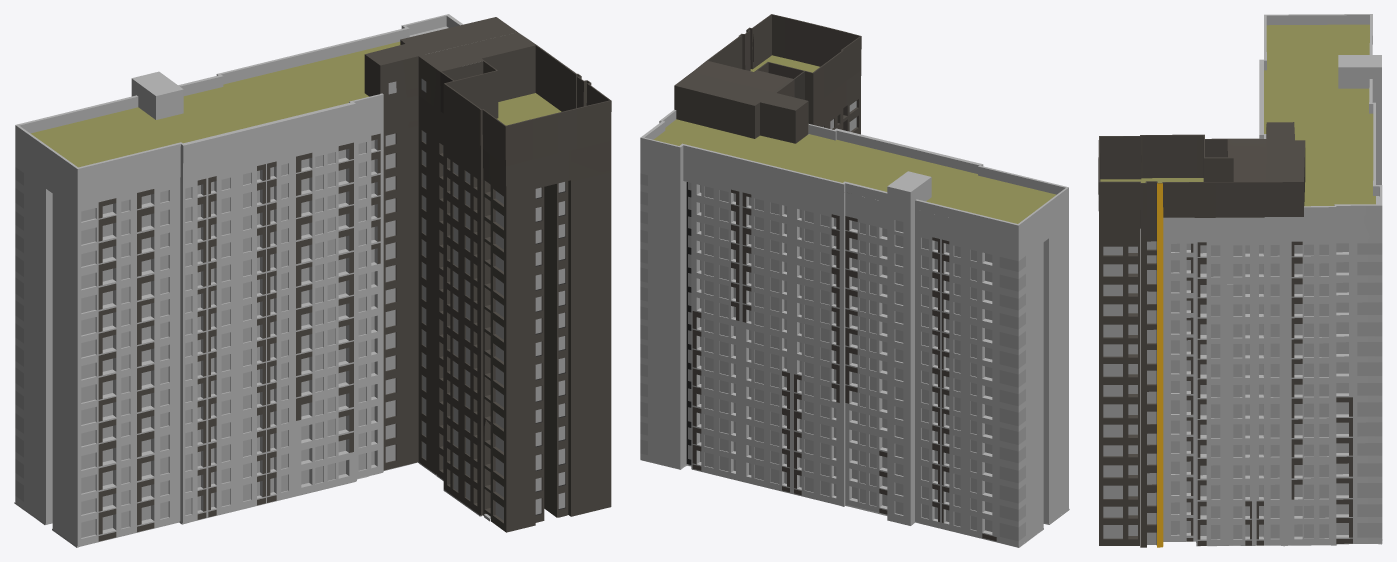
The model's file is cut_rooftop.glb.
3 views of the same model, side by side, from view 1: azimuth 30°, elevation 25°; view 2: azimuth 150°, elevation 25°; view 3: azimuth 270°, elevation 25° (orthographic). The views are drawn at different scales.
Parts seen in each view (by area): view 1: cut__1_:pPlane3 (×4); view 2: cut__1_:pPlane3 (×6); view 3: cut__1_:pPlane3 (×5).
Boxes of the visible parts, bbox=[...] form: cut__1_:pPlane3 (×4): bbox=[15, 14, 611, 546]; cut__1_:pPlane3 (×6): bbox=[640, 14, 1069, 547]; cut__1_:pPlane3 (×5): bbox=[1098, 14, 1382, 547].
Size of the model in its own units: 4.47 by 3.89 by 2.75.
11 materials, 11 textured.
